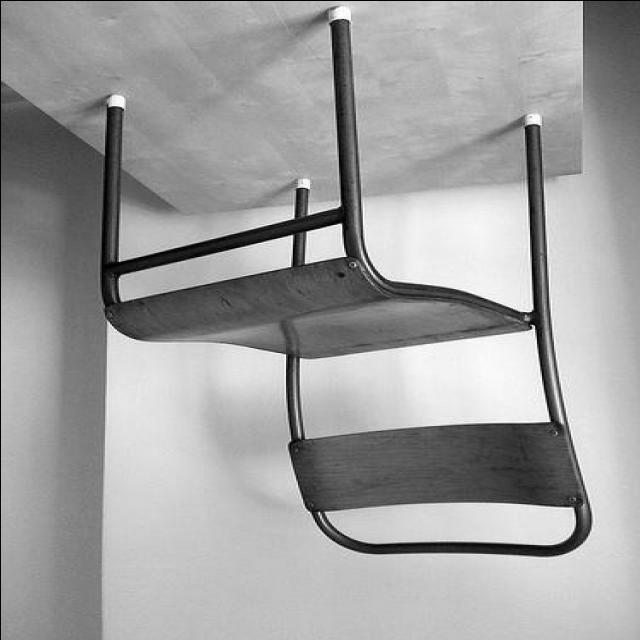chair: (92, 9, 593, 561)
